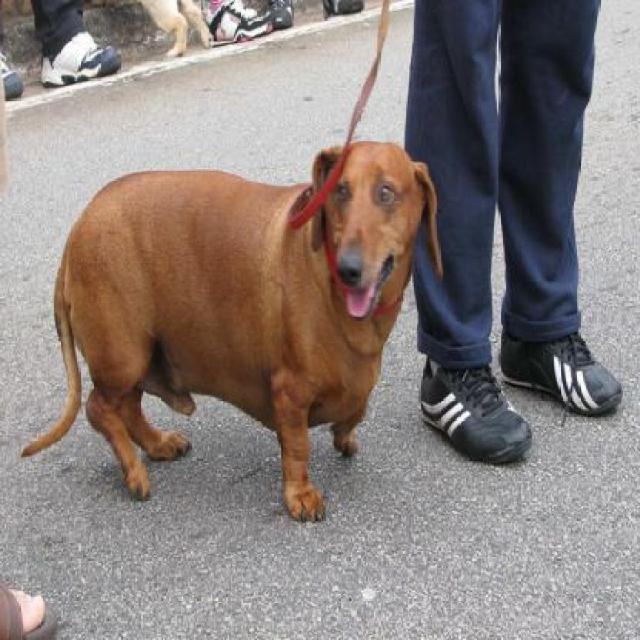Dog: (13, 137, 444, 531)
